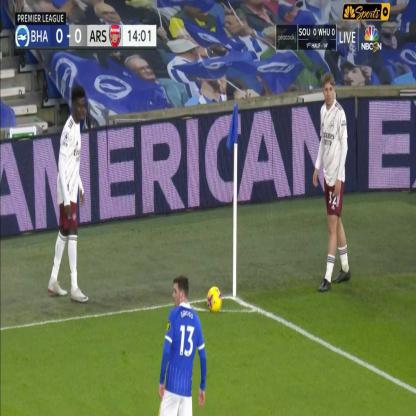corner kick: (193, 77, 280, 345)
